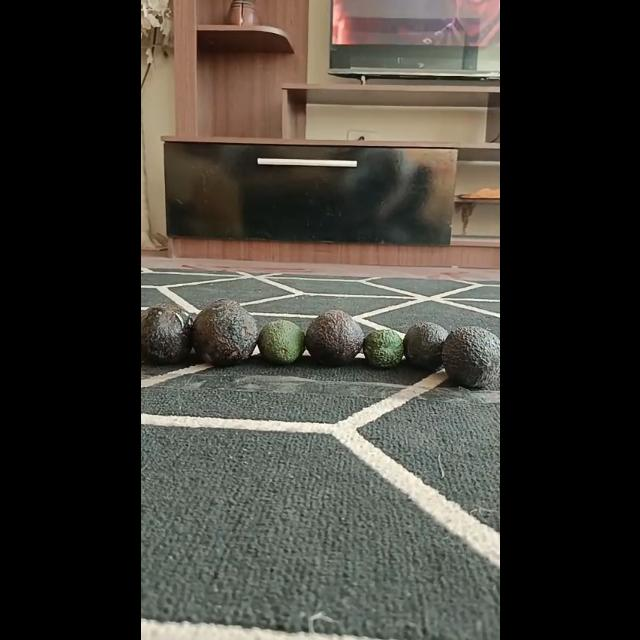Primera: (190, 299, 258, 365), (441, 326, 499, 388), (304, 309, 364, 365), (140, 303, 193, 363)
Segunda: (402, 322, 448, 368), (256, 320, 304, 364)
Tercera: (362, 328, 406, 368)
